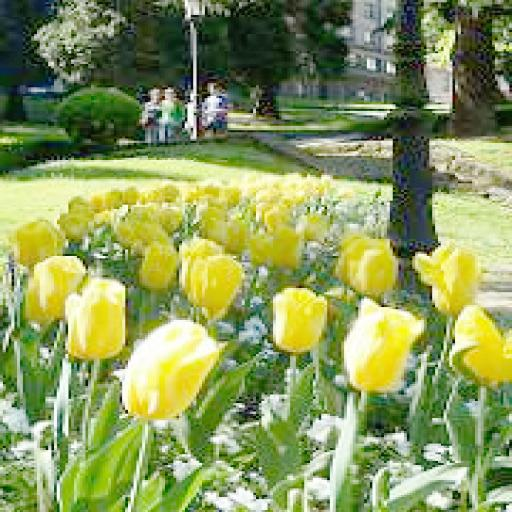tulip: (119, 314, 222, 418), (344, 299, 424, 390), (65, 278, 128, 358), (412, 241, 478, 312), (185, 250, 245, 316), (28, 254, 82, 322), (273, 288, 324, 352)
